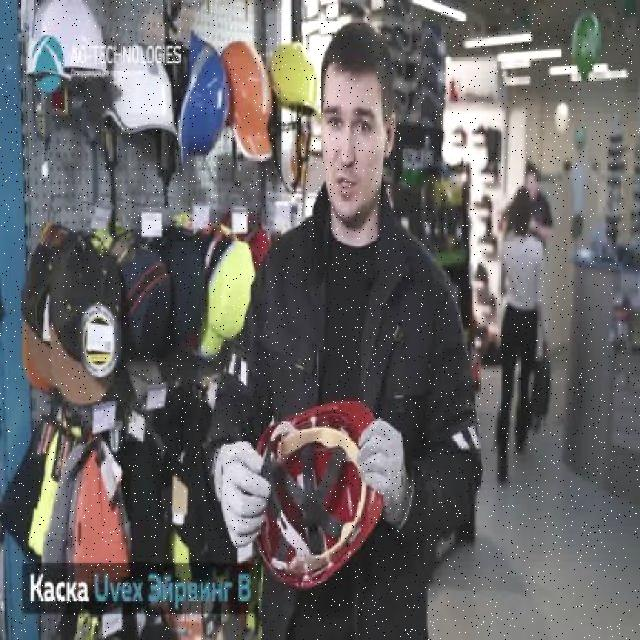Gloves: (354, 416, 412, 524), (214, 437, 268, 548)
Helmet: (248, 397, 387, 592), (105, 38, 182, 140), (177, 27, 232, 168), (23, 0, 114, 80), (219, 40, 276, 162), (267, 39, 321, 121)
